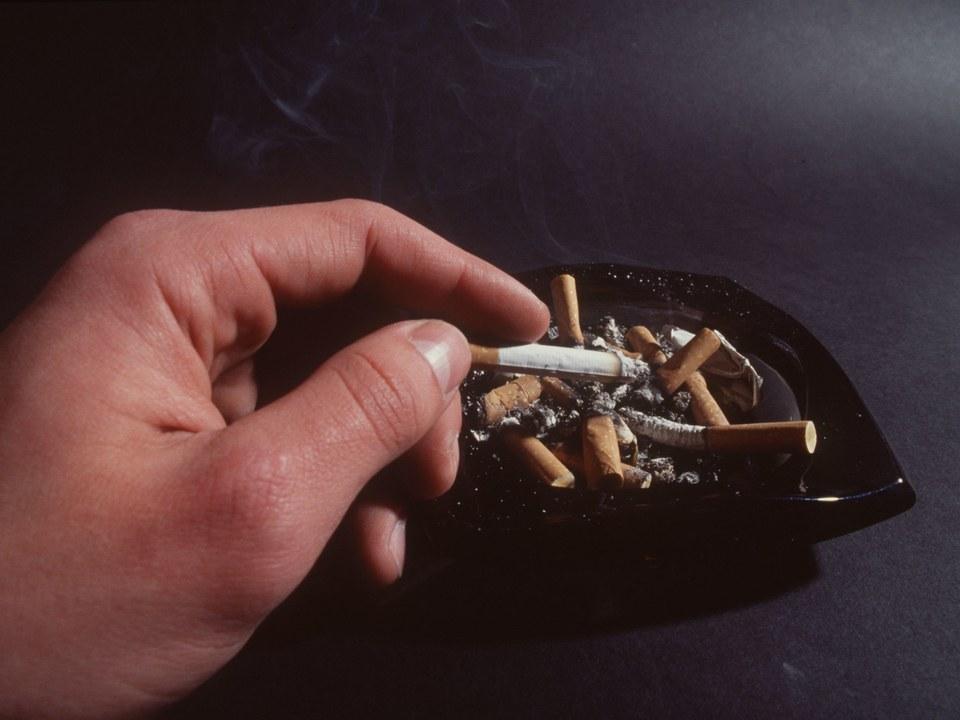cigarette: (433, 304, 674, 399)
